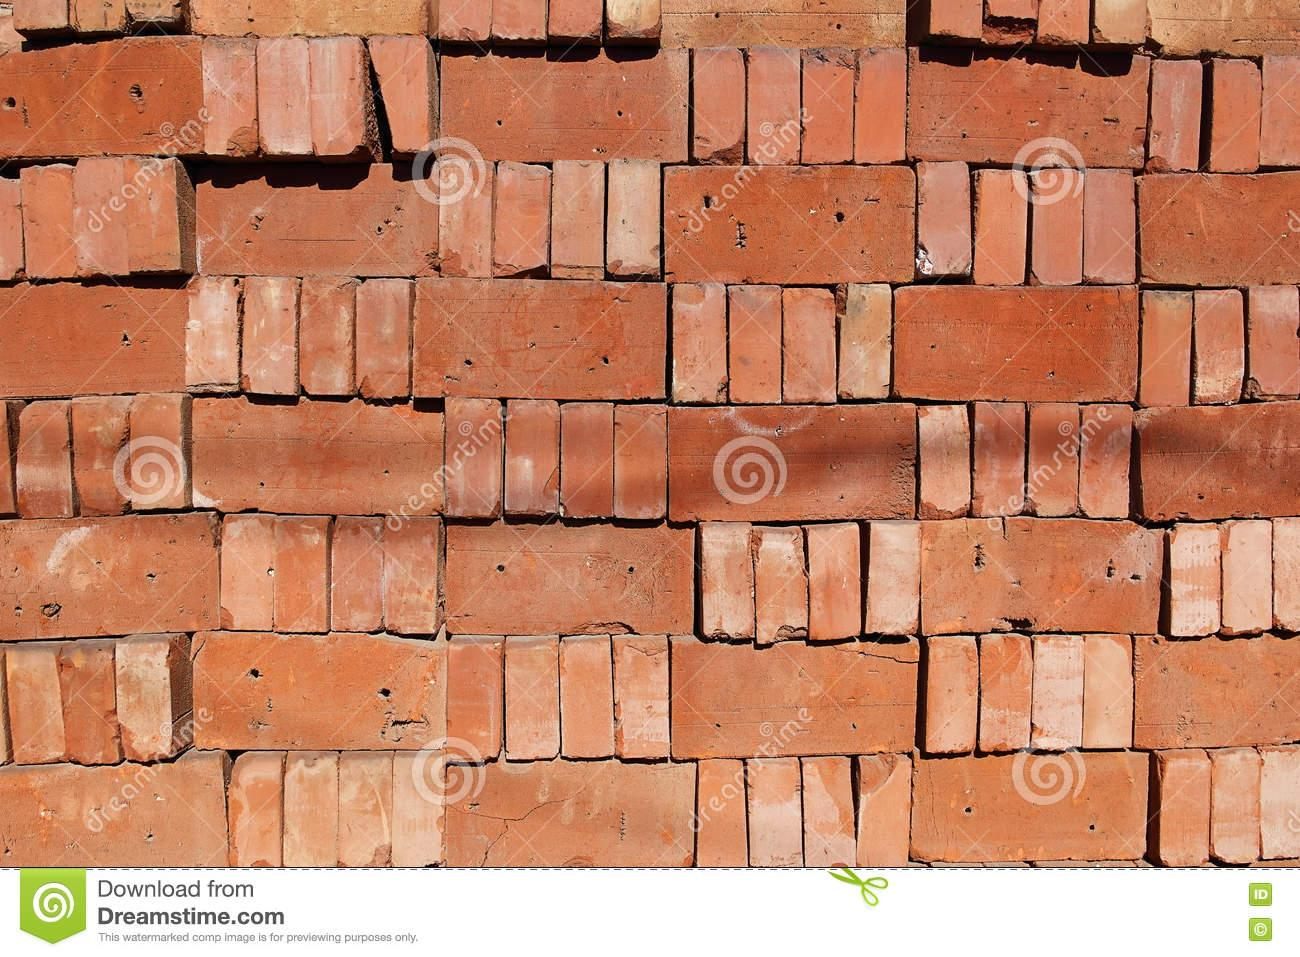brick: (415, 279, 667, 399), (192, 397, 444, 515), (193, 632, 445, 750), (664, 167, 915, 285), (668, 403, 915, 522), (909, 46, 1151, 168), (671, 641, 917, 758), (920, 517, 1163, 635), (441, 47, 687, 163), (894, 286, 1140, 401), (1, 511, 220, 639), (447, 522, 693, 635), (446, 759, 693, 867), (198, 165, 437, 276), (911, 751, 1149, 862), (0, 35, 203, 159), (0, 758, 228, 867), (0, 282, 184, 399), (1141, 401, 1300, 519), (1140, 172, 1300, 287), (1135, 636, 1300, 748), (60, 644, 119, 764), (369, 35, 430, 150), (7, 648, 67, 764), (73, 397, 129, 516), (445, 398, 502, 517), (202, 36, 257, 156), (311, 36, 366, 155), (506, 641, 561, 758), (73, 156, 127, 276), (356, 279, 411, 398), (615, 638, 669, 757), (836, 283, 891, 399), (384, 517, 439, 633), (752, 527, 807, 643), (505, 399, 560, 514), (17, 402, 73, 517), (242, 277, 297, 394), (257, 37, 312, 154), (674, 283, 727, 404), (124, 155, 180, 270), (20, 163, 75, 279), (117, 643, 172, 759), (560, 638, 614, 756), (441, 156, 494, 277), (1146, 60, 1203, 169), (130, 395, 185, 510), (272, 516, 326, 631), (185, 276, 238, 393), (447, 642, 499, 763), (973, 168, 1026, 284), (551, 159, 603, 280), (613, 406, 668, 517), (701, 522, 754, 639), (749, 45, 800, 165), (783, 289, 836, 405), (219, 514, 272, 630), (729, 286, 780, 404), (497, 161, 550, 274), (300, 278, 351, 395), (1080, 405, 1133, 517), (284, 755, 337, 867), (809, 525, 862, 639), (980, 635, 1032, 751), (866, 524, 920, 633), (917, 162, 970, 275), (608, 159, 659, 275), (1083, 169, 1134, 284), (974, 402, 1025, 517), (855, 46, 905, 164), (228, 756, 282, 866), (749, 757, 802, 867), (858, 756, 910, 868), (1141, 290, 1191, 406), (927, 635, 977, 751), (562, 403, 613, 517), (1034, 636, 1084, 750), (803, 45, 852, 164), (332, 517, 383, 630), (1032, 170, 1081, 285), (1222, 520, 1272, 635), (695, 47, 744, 165), (1250, 286, 1300, 398), (1028, 404, 1079, 516), (1209, 60, 1259, 174), (919, 406, 969, 520), (1170, 522, 1219, 636), (340, 757, 392, 866), (394, 757, 444, 868), (1083, 635, 1132, 748), (802, 757, 854, 865), (1159, 758, 1210, 866), (1195, 289, 1242, 404), (697, 759, 747, 867), (1211, 752, 1260, 862), (1260, 57, 1300, 166), (1262, 748, 1300, 859), (1273, 519, 1300, 632)
